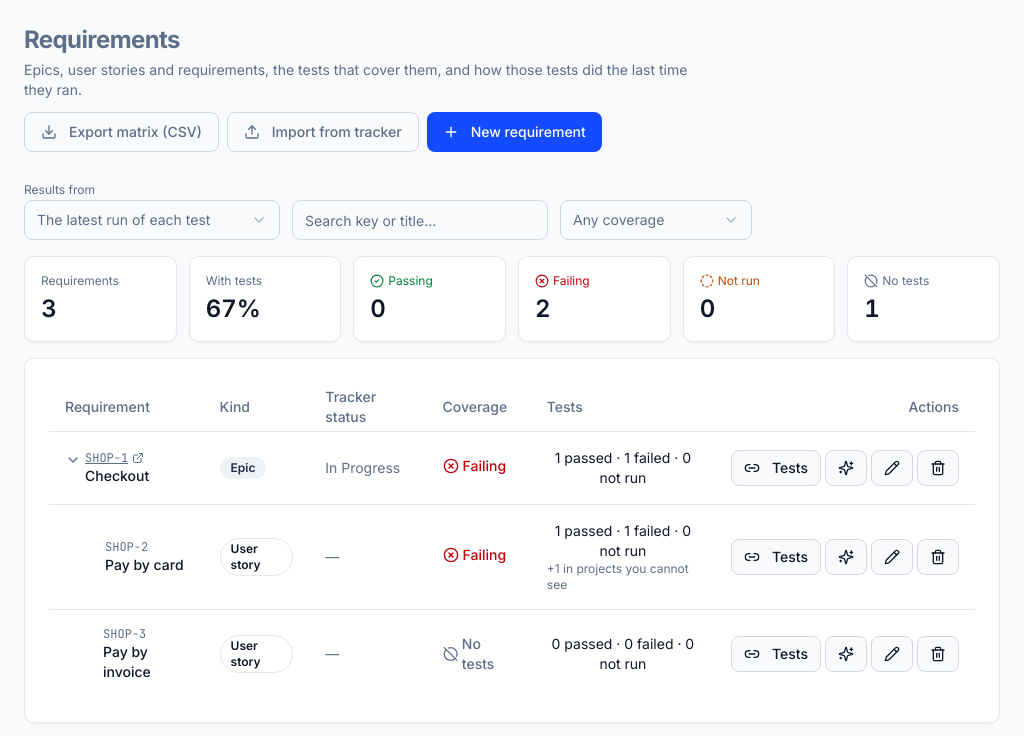
Test: RequirementsPage › opens the tests behind the counts, with their last run
This screenshot has width=1024, height=736.
Click the button "1 passed · 1 failed · 0 not run" in the row of "SHOP-2" at coordinates (623, 540), box [547,520,699,560]
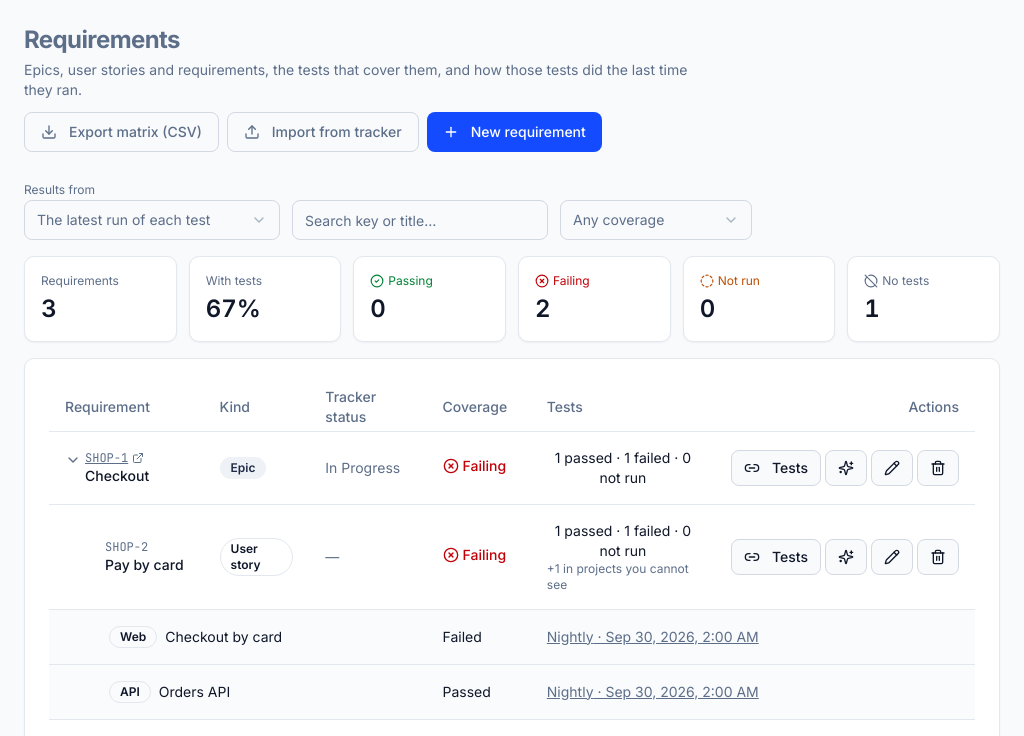
Expected: the text "Failed" is shown, [426,609,531,664]
